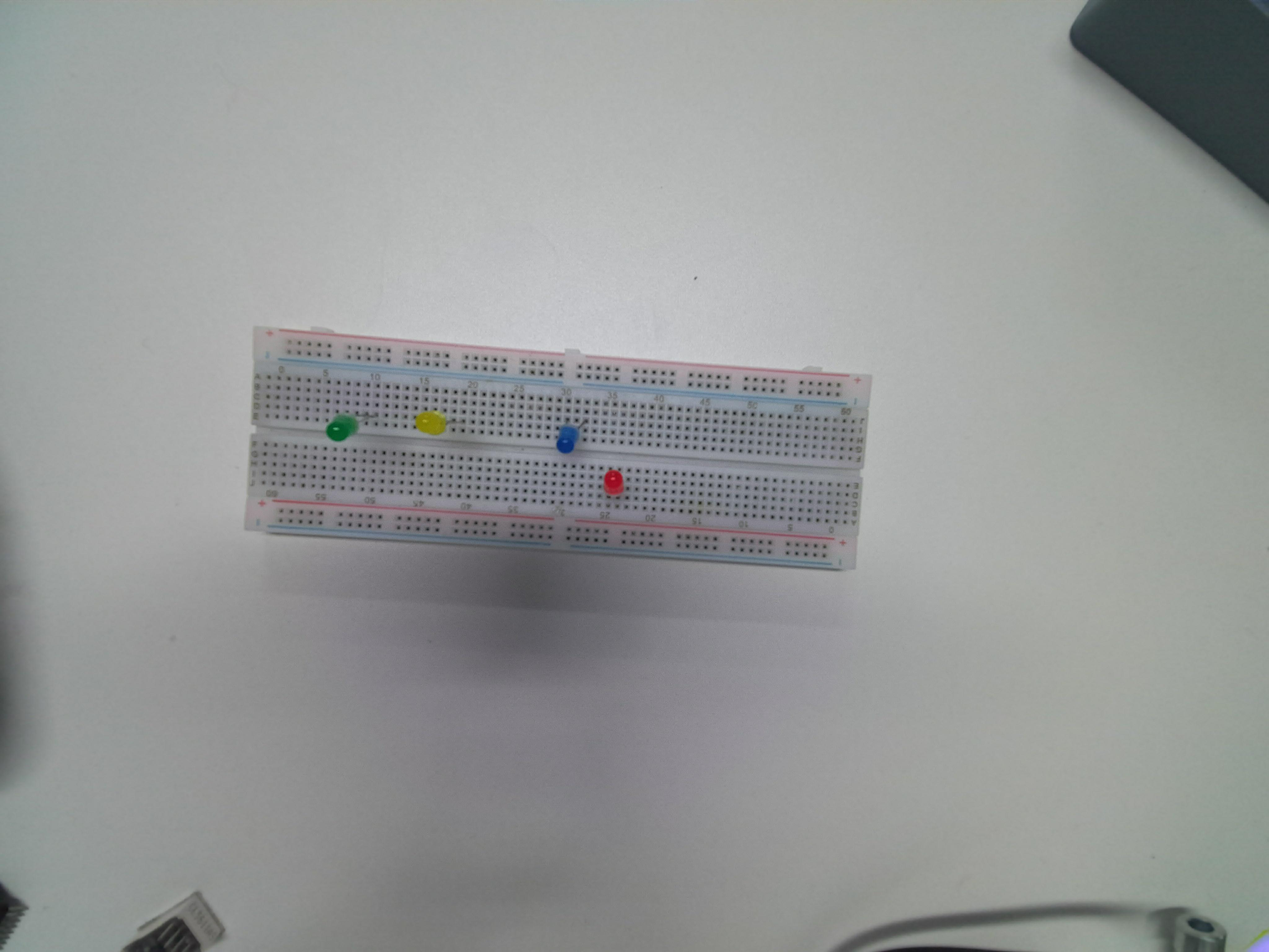base: (245, 325, 874, 574)
blue-led: (557, 424, 580, 454)
green-led: (327, 415, 357, 443)
red-led: (603, 467, 625, 496)
yellow-led: (416, 411, 446, 435)
